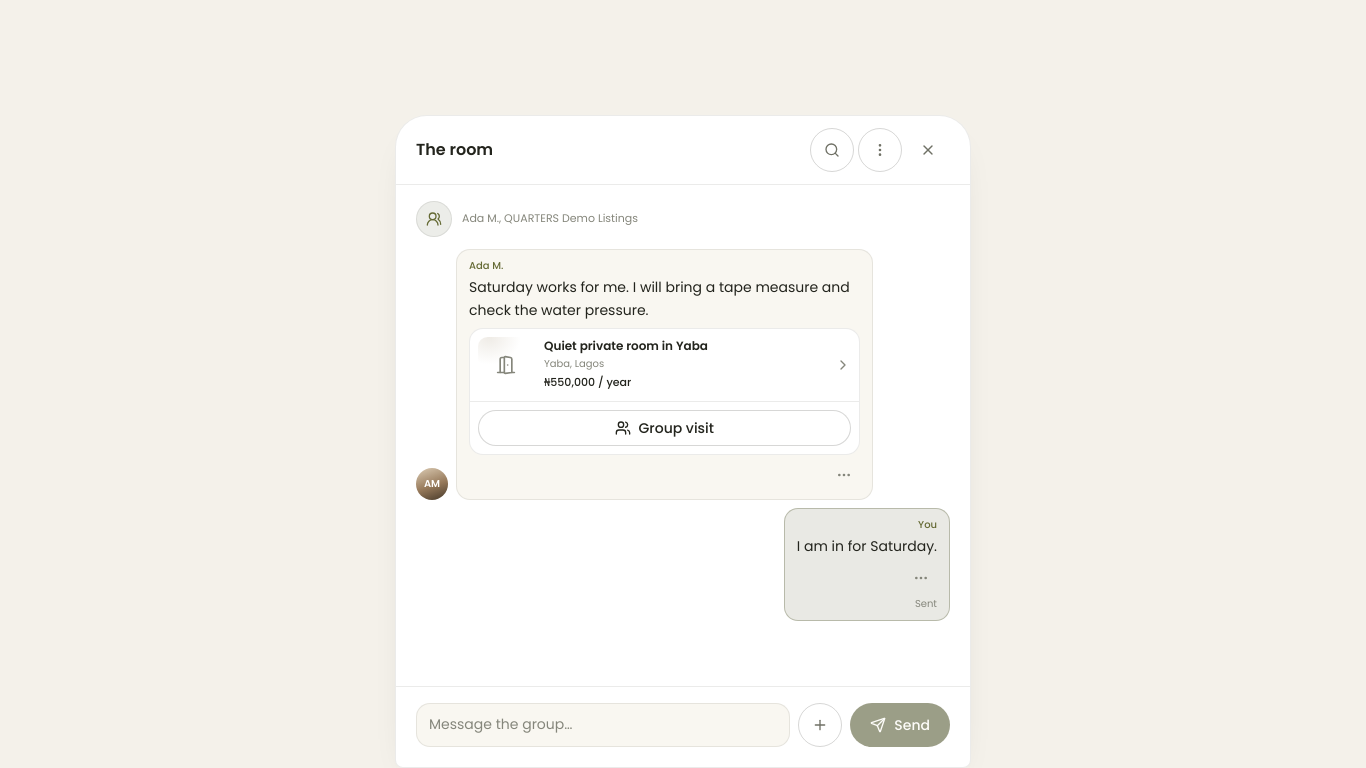
Test case: GroupChatSheet › narrows the thread from the search strip
Click the button named "Search this group" at x=832, y=150, box [810,128,854,172]
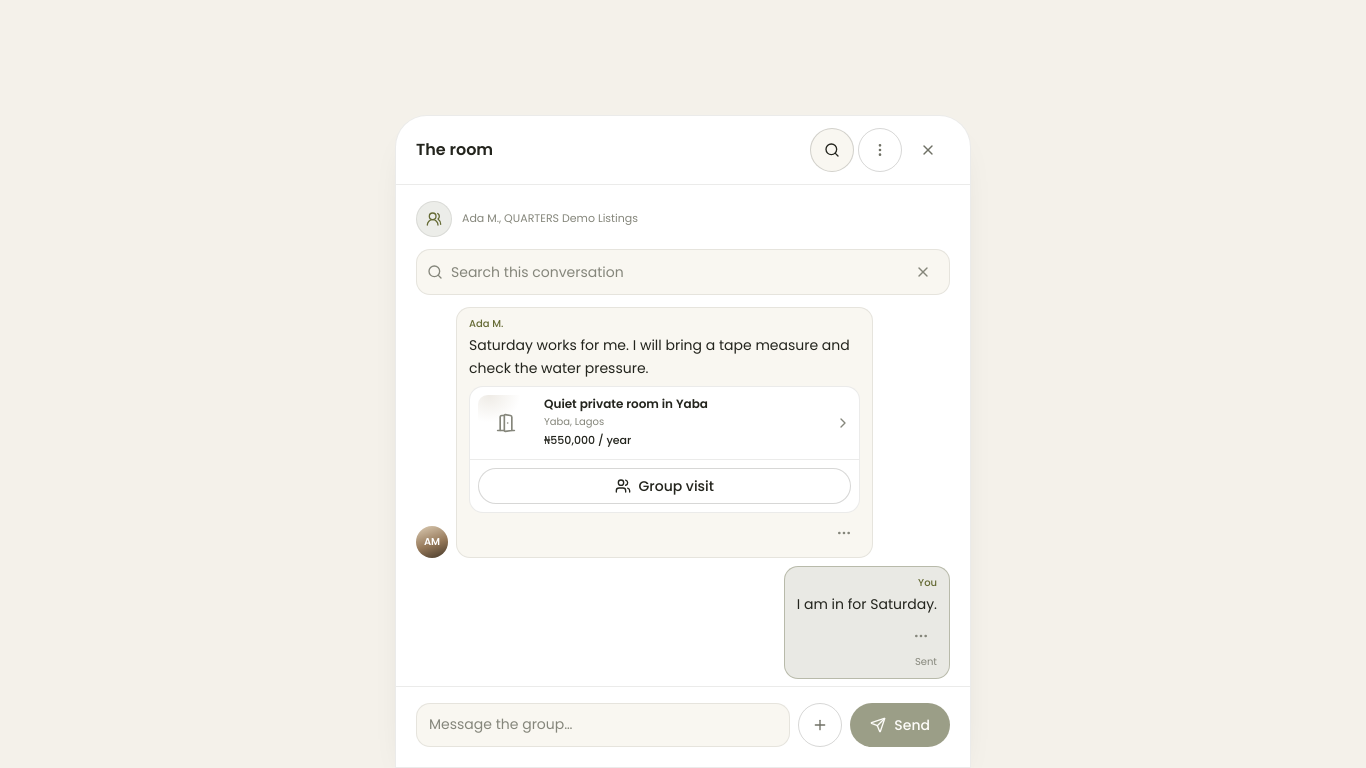
Type "tape measure" into the field named "Search group messages" at x=675, y=272, box [451,258,899,286]
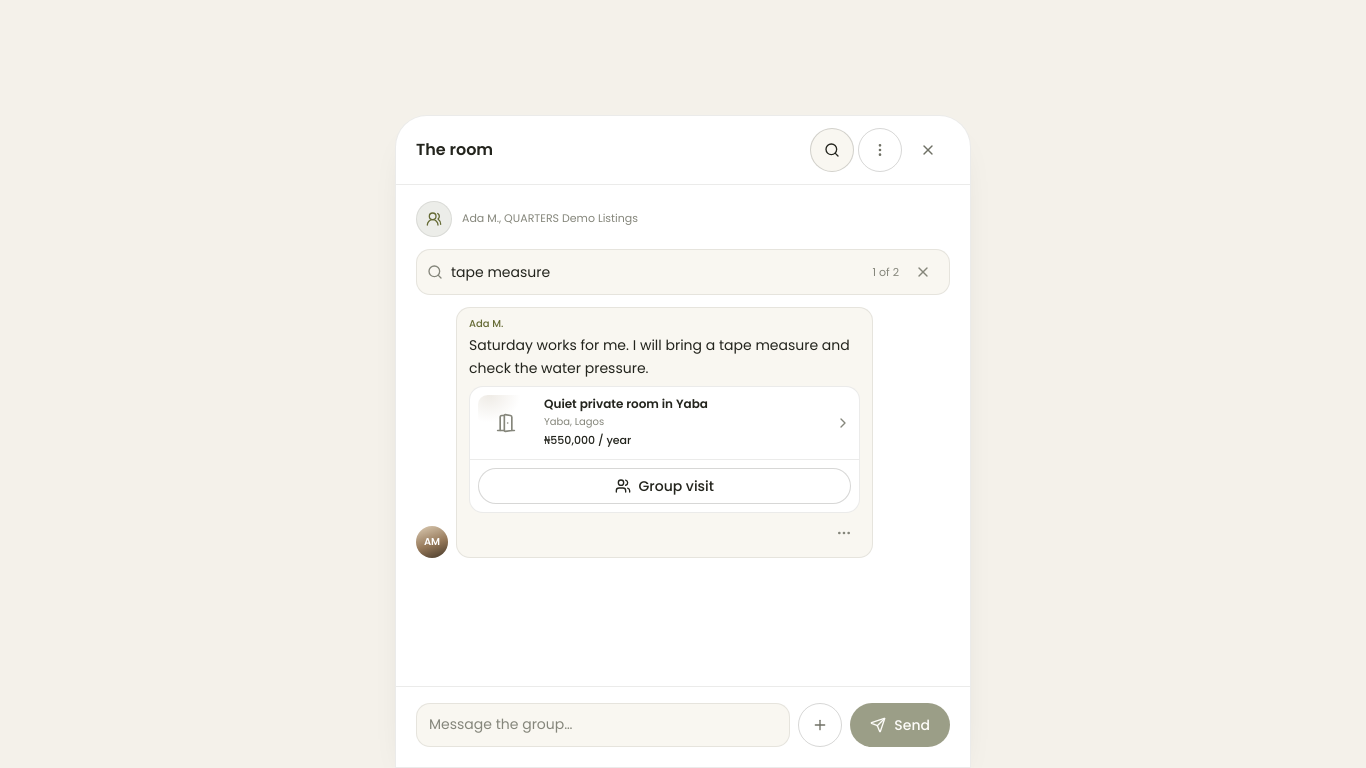
Expected: the text "I will bring a tape measure" is shown, [469,336,850,378]
Expected: the text "I am in for Saturday." is gone
Expected: the message reads "1 of 2", [873,264,899,280]
